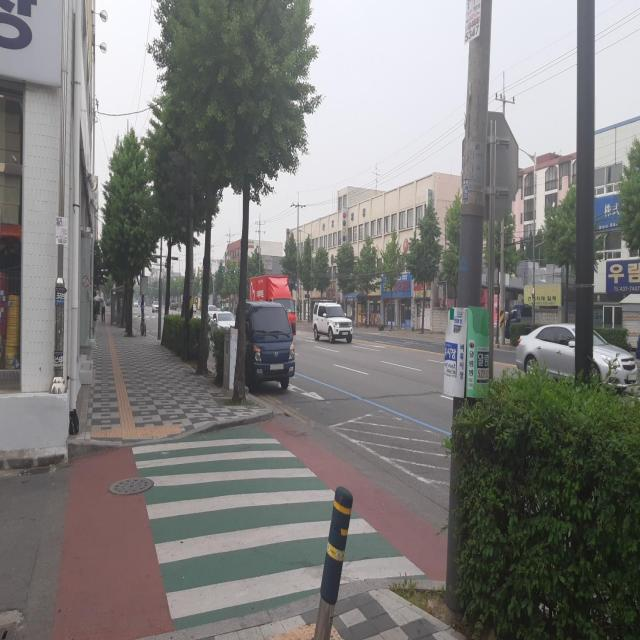횡단보도: (131, 437, 427, 620)
